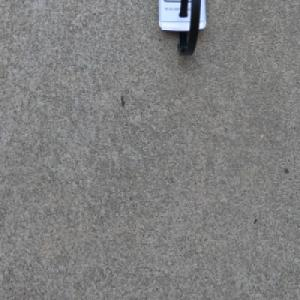LuggageTag: (155, 0, 208, 59)
